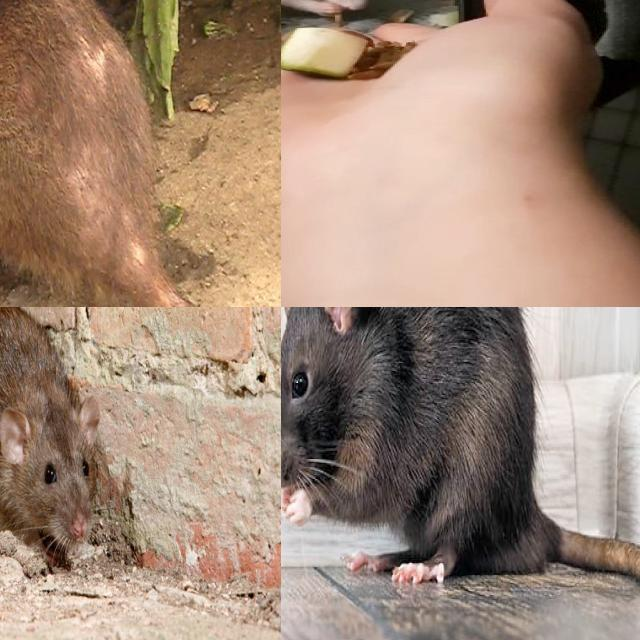rat: (281, 307, 572, 586), (0, 0, 256, 307), (0, 307, 113, 585)
